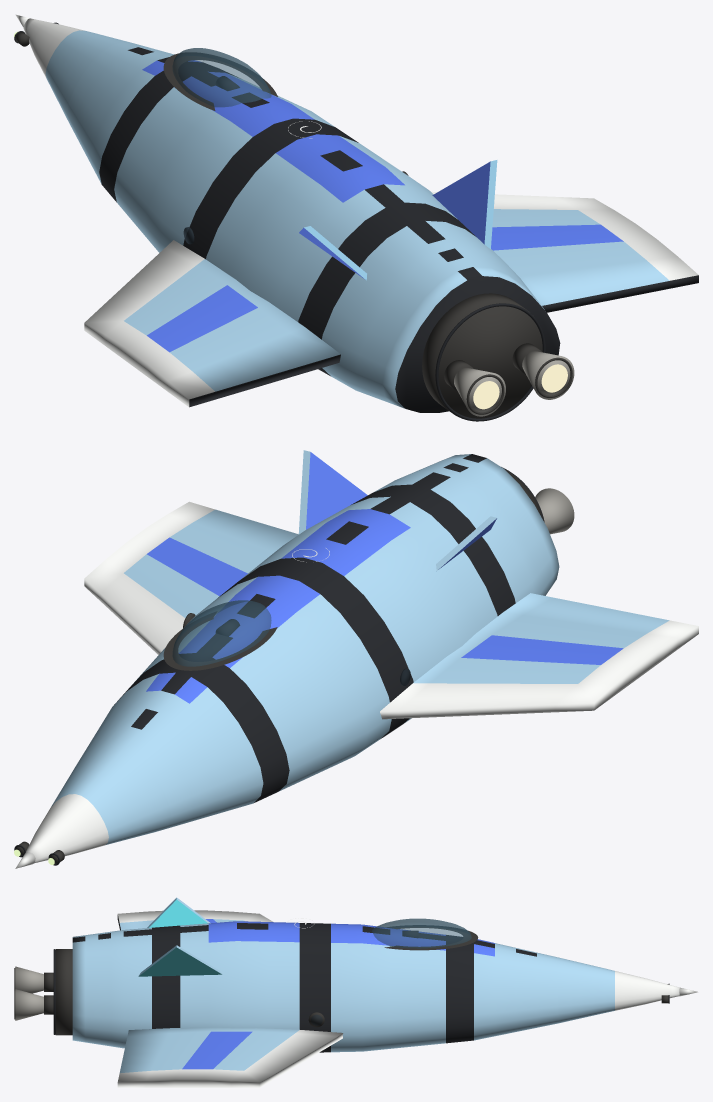
Rendered from Ship_Standard_2.glb.
The picture shows the model from 3 angles, top to bottom: view 1: azimuth 30°, elevation 25°; view 2: azimuth 150°, elevation 25°; view 3: azimuth 270°, elevation 25°; orthographic projection. The views are drawn at different scales.
Parts seen in each view (by area): view 1: Fuselage_RoundedSectionPaintedMesh, Wing_Left_EmbeddedPaintShoulderPlane, Wing_Right_EmbeddedPaintShoulderPlane, EngineBlock_AftSectionMountPlate, Nose_FacetedTaperPaintedMesh, CanopyGlass_LowDorsalDome, TailFin_Right_CantedStabilizerPaintedMesh, CanopyFrame_LowDorsalRim, EngineEmitter.001, EngineBell_Right_BurnishedNozzle, EngineBell_Left_BurnishedNozzle, EngineBlock_AftDarkTrimRing (+1 smaller); view 2: Fuselage_RoundedSectionPaintedMesh, Wing_Left_EmbeddedPaintShoulderPlane, Wing_Right_EmbeddedPaintShoulderPlane, Nose_FacetedTaperPaintedMesh, CanopyGlass_LowDorsalDome, TailFin_Right_CantedStabilizerPaintedMesh, CanopyFrame_LowDorsalRim, EngineBell_Left_BurnishedNozzle, TailFin_Left_CantedStabilizerPaintedMesh; view 3: Fuselage_RoundedSectionPaintedMesh, Wing_Right_EmbeddedPaintShoulderPlane, Nose_FacetedTaperPaintedMesh, CanopyGlass_LowDorsalDome, EngineBlock_AftSectionMountPlate, TailFin_Right_CantedStabilizerPaintedMesh, Wing_Left_EmbeddedPaintShoulderPlane, TailFin_Left_CantedStabilizerPaintedMesh, CanopyFrame_LowDorsalRim, EngineBell_Right_BurnishedNozzle, EngineBell_Left_BurnishedNozzle.
Part boxes in pixels (left/top/right/bottom): Fuselage_RoundedSectionPaintedMesh: left=67, top=42, right=560, bottom=412; Wing_Left_EmbeddedPaintShoulderPlane: left=84, top=240, right=340, bottom=407; Wing_Right_EmbeddedPaintShoulderPlane: left=431, top=191, right=698, bottom=312; EngineBlock_AftSectionMountPlate: left=422, top=293, right=542, bottom=418; Nose_FacetedTaperPaintedMesh: left=23, top=18, right=131, bottom=120; CanopyGlass_LowDorsalDome: left=172, top=48, right=271, bottom=107; TailFin_Right_CantedStabilizerPaintedMesh: left=432, top=160, right=497, bottom=248; CanopyFrame_LowDorsalRim: left=163, top=52, right=277, bottom=110; EngineEmitter.001: left=473, top=364, right=567, bottom=409; EngineBell_Right_BurnishedNozzle: left=522, top=351, right=574, bottom=399; EngineBell_Left_BurnishedNozzle: left=454, top=368, right=505, bottom=416; EngineBlock_AftDarkTrimRing: left=435, top=303, right=545, bottom=421; Fuselage_RoundedSectionPaintedMesh: left=76, top=454, right=559, bottom=828; Wing_Left_EmbeddedPaintShoulderPlane: left=380, top=593, right=698, bottom=719; Wing_Right_EmbeddedPaintShoulderPlane: left=84, top=501, right=298, bottom=654; Nose_FacetedTaperPaintedMesh: left=26, top=744, right=171, bottom=863; CanopyGlass_LowDorsalDome: left=172, top=600, right=271, bottom=666; TailFin_Right_CantedStabilizerPaintedMesh: left=298, top=450, right=367, bottom=534; CanopyFrame_LowDorsalRim: left=163, top=612, right=277, bottom=670; EngineBell_Left_BurnishedNozzle: left=535, top=488, right=574, bottom=534; TailFin_Left_CantedStabilizerPaintedMesh: left=436, top=516, right=496, bottom=570; Fuselage_RoundedSectionPaintedMesh: left=72, top=921, right=558, bottom=1052; Wing_Right_EmbeddedPaintShoulderPlane: left=117, top=1027, right=343, bottom=1087; Nose_FacetedTaperPaintedMesh: left=558, top=957, right=679, bottom=1023; CanopyGlass_LowDorsalDome: left=372, top=918, right=471, bottom=948; EngineBlock_AftSectionMountPlate: left=55, top=949, right=72, bottom=1035; TailFin_Right_CantedStabilizerPaintedMesh: left=138, top=945, right=222, bottom=976; Wing_Left_EmbeddedPaintShoulderPlane: left=117, top=910, right=273, bottom=930; TailFin_Left_CantedStabilizerPaintedMesh: left=147, top=897, right=210, bottom=927; CanopyFrame_LowDorsalRim: left=384, top=925, right=478, bottom=950; EngineBell_Right_BurnishedNozzle: left=15, top=989, right=43, bottom=1020; EngineBell_Left_BurnishedNozzle: left=15, top=966, right=43, bottom=993.
Size of the model in its own units: 4.41 by 1.48 by 7.57.
